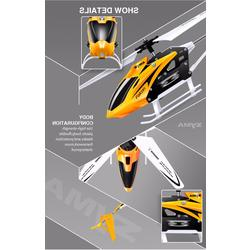drone: (77, 8, 204, 124), (81, 16, 121, 68)
